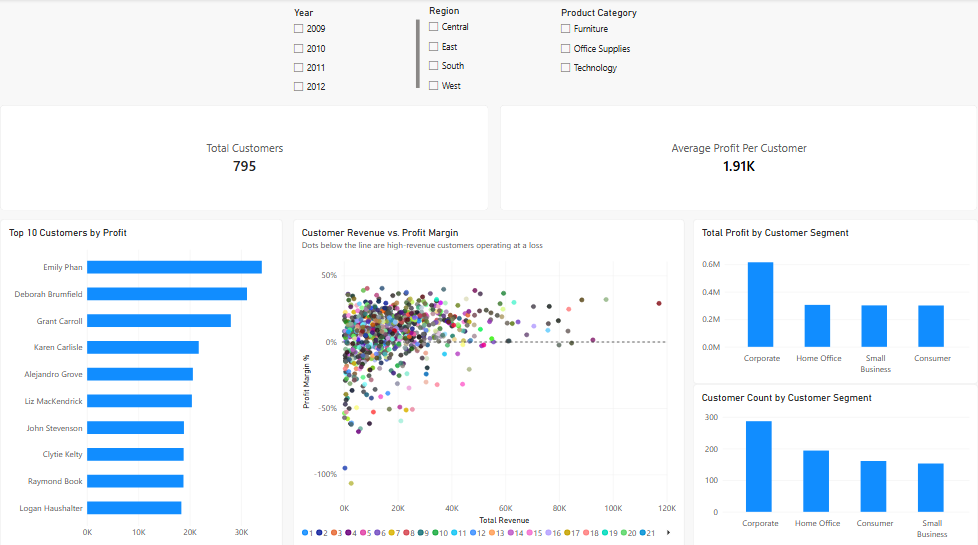

The page's visual inventory and layout, read from the dashboard file:
{"tool":"powerbi","page":{"name":"Customer Insights","canvas":[1920,1080],"ordinal":2},"visuals":[{"type":"slicer","fields":{"Values":["DateTable.Year"]},"box":[570.2,15.1,254.9,170.6],"z":0},{"type":"slicer","fields":{"Values":["public customers.region"]},"box":[834,12.5,252,176],"z":1000},{"type":"slicer","fields":{"Values":["public products.product_category"]},"box":[1093,15.1,252.7,170.6],"z":2000},{"type":"cardVisual","fields":{"Data":["_Measures.Total Customers"]},"box":[0,208,959,207.4],"z":3000},{"type":"cardVisual","fields":{"Data":["_Measures.Average Profit Per Customer"]},"box":[982.6,207.4,937.4,207.4],"z":4000},{"type":"scatterChart","title":"Customer Revenue vs. Profit Margin","fields":{"Series":["public customers.customer_id"],"X":["_Measures.Total Revenue"],"Y":["_Measures.Profit Margin %"]},"box":[575.5,432,769,648],"z":5000},{"type":"clusteredBarChart","title":"Top 10 Customers by Profit","fields":{"Category":["public customers.customer_name"],"Y":["_Measures.Total Profit"]},"box":[0,432,555.1,648],"z":6000},{"type":"clusteredColumnChart","title":"Total Profit by Customer Segment","fields":{"Category":["public customers.customer_segment"],"Y":["_Measures.Total Profit"]},"box":[1360,432,560,324],"z":7000},{"type":"clusteredColumnChart","title":"Customer Count by Customer Segment","fields":{"Category":["public customers.customer_segment"],"Y":["_Measures.Total Customers"]},"box":[1360,756,560,324],"z":8000}]}

Visuals, with their boxes in screenshot pixels (x1, y1, x2, y2), scaled from the page's 1920x1080 canvas onto the 978x545 screenshot:
slicer - DateTable.Year: BBox(290, 8, 420, 94)
slicer - public customers.region: BBox(425, 6, 553, 95)
slicer - public products.product_category: BBox(557, 8, 685, 94)
cardVisual - _Measures.Total Customers: BBox(0, 105, 488, 210)
cardVisual - _Measures.Average Profit Per Customer: BBox(501, 105, 977, 209)
"Customer Revenue vs. Profit Margin" scatterChart: BBox(293, 218, 685, 544)
"Top 10 Customers by Profit" clusteredBarChart: BBox(0, 218, 283, 544)
"Total Profit by Customer Segment" clusteredColumnChart: BBox(693, 218, 977, 382)
"Customer Count by Customer Segment" clusteredColumnChart: BBox(693, 382, 977, 544)
